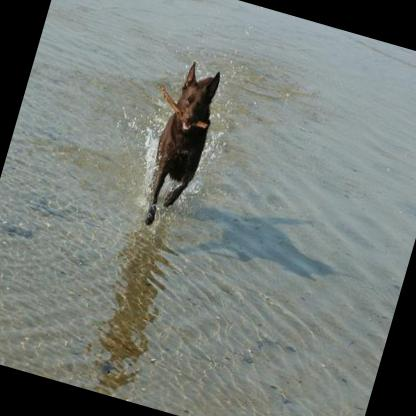kelpie: (134, 57, 225, 234)
